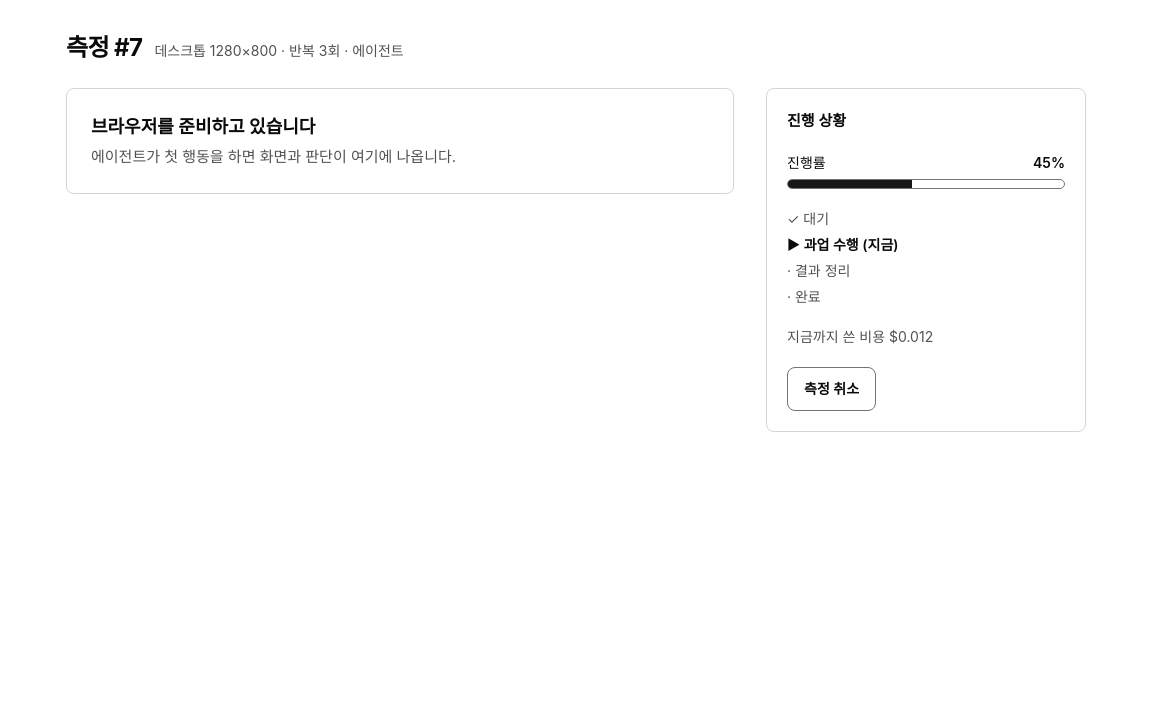
Test case: 취소: 한 번 더 묻고 POST /runs/{id}/cancel을 보낸 뒤 취소됨을 보인다
The width and height of the screenshot is (1152, 720).
Click the button "측정 취소": (832, 389) [787,367,876,411]
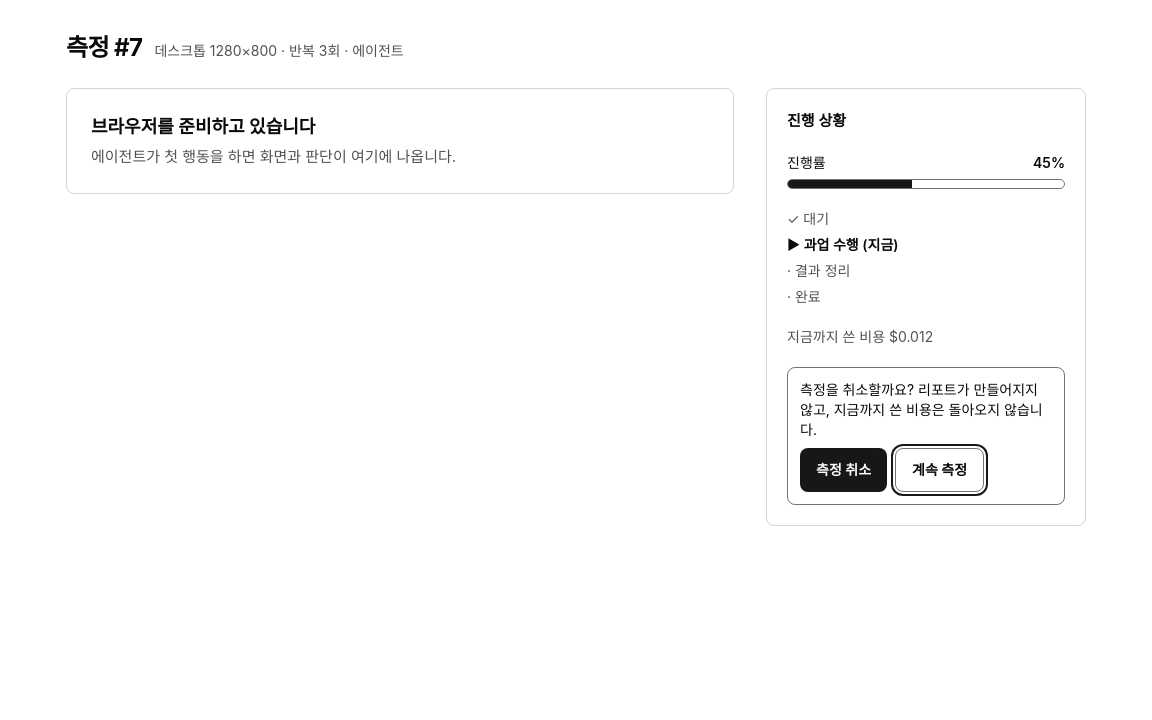
expect the text "측정을 취소할까요? 리포트가 만들어지지 않고, 지금까지 쓴 비용은 돌아오지 않습니다." is shown: met, box [800,380,1052,440]
Click the button "측정 취소": (844, 470) [800,448,887,492]
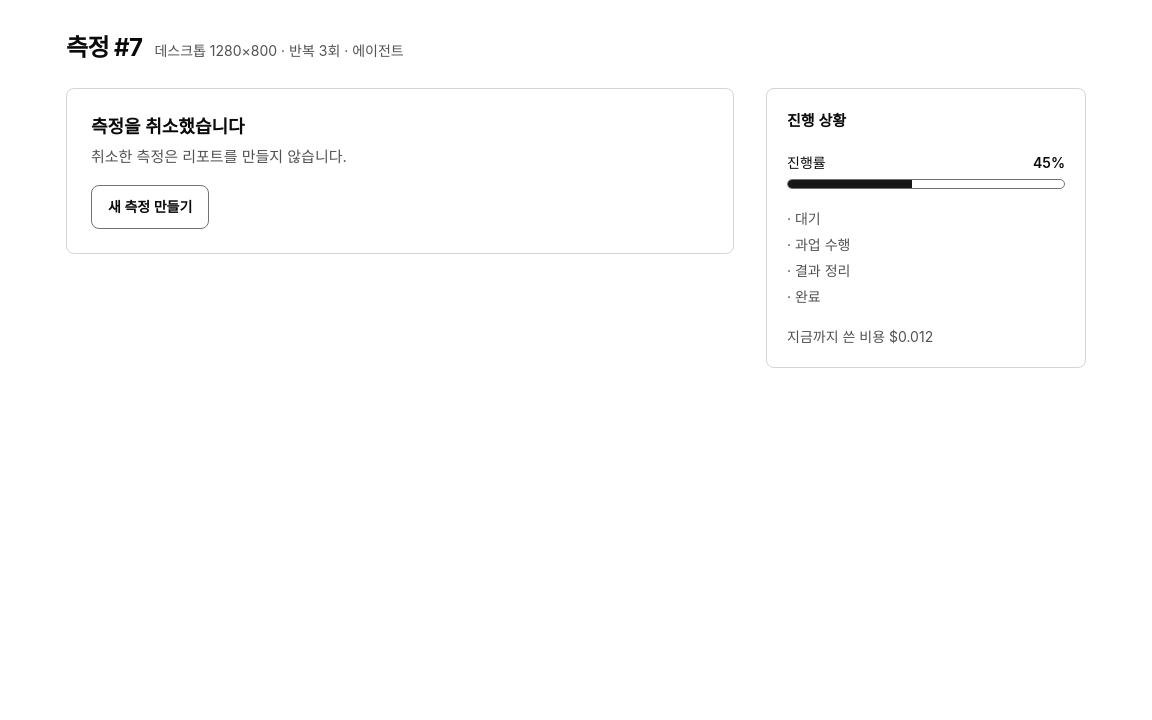
expect the text "측정을 취소했습니다" is shown: met, box [91,116,245,137]
